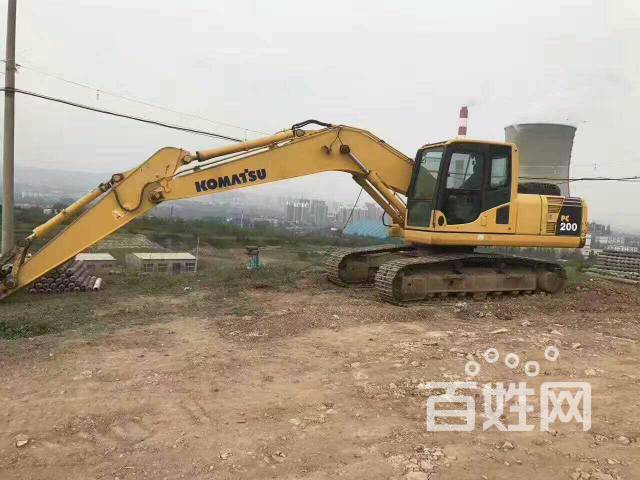excavator: (1, 121, 605, 351)
